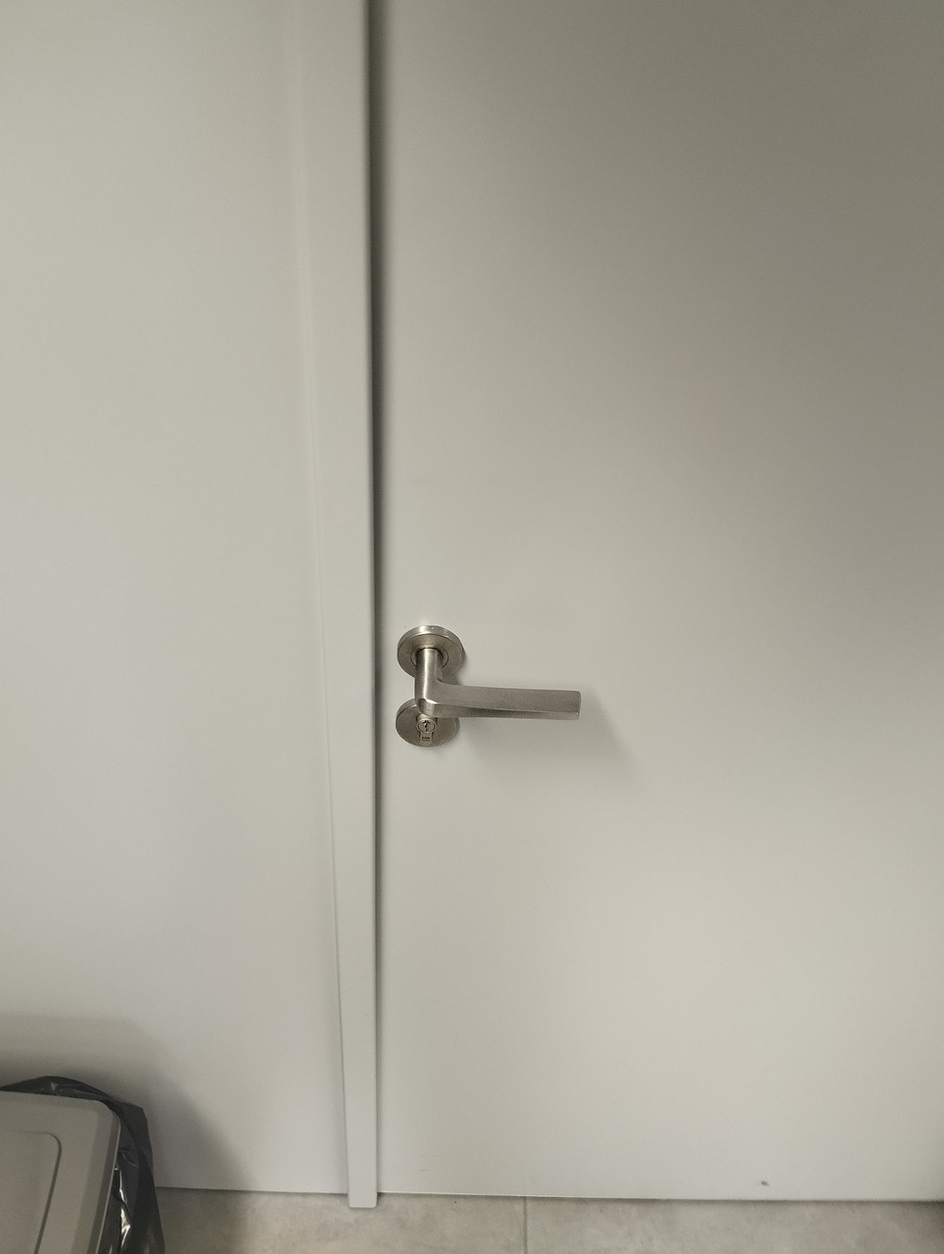Door-handle: (399, 623, 590, 721)
